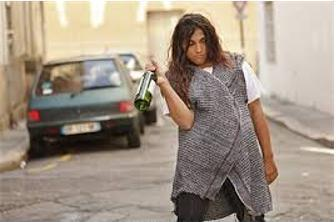Drunk: (184, 29, 208, 64)
